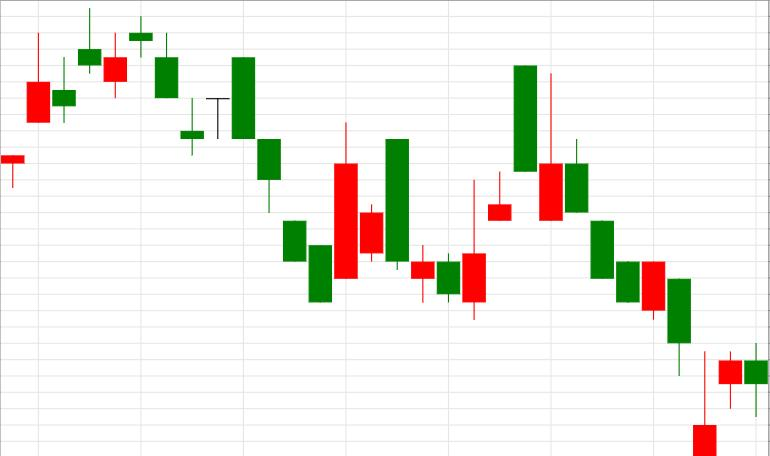evening_star_fall: (0, 9, 177, 188)
inverse_hammer_rise: (514, 66, 717, 456)
